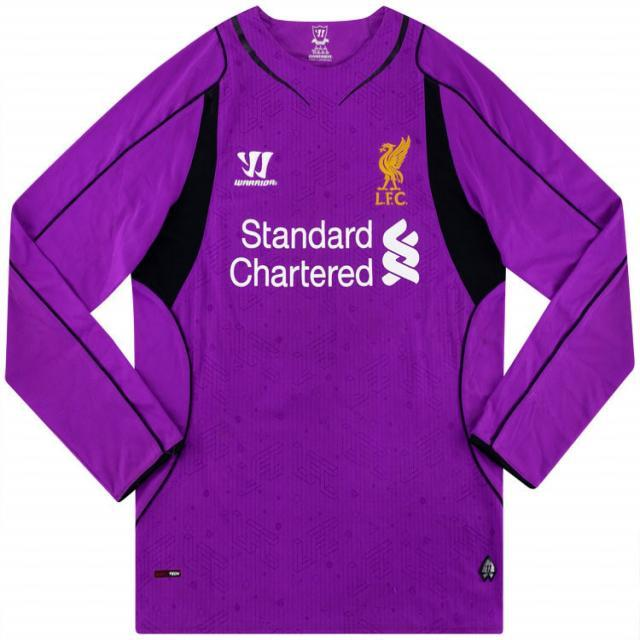Standard Chartered: (231, 214, 422, 286)
